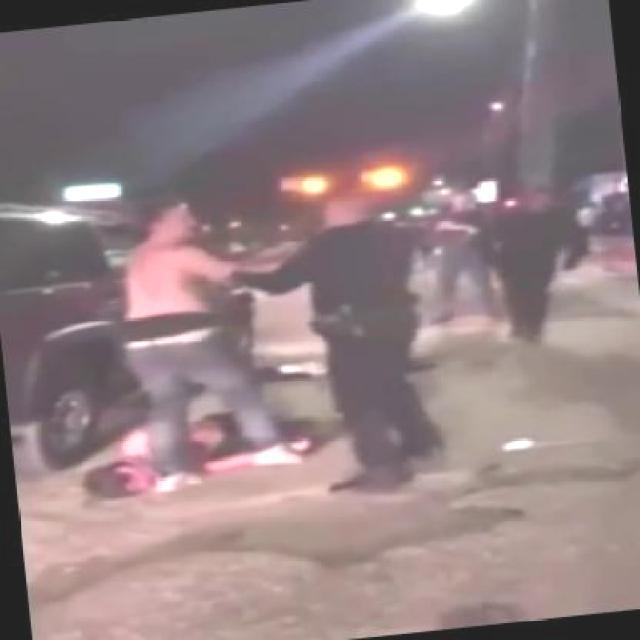fight: (100, 170, 457, 516)
